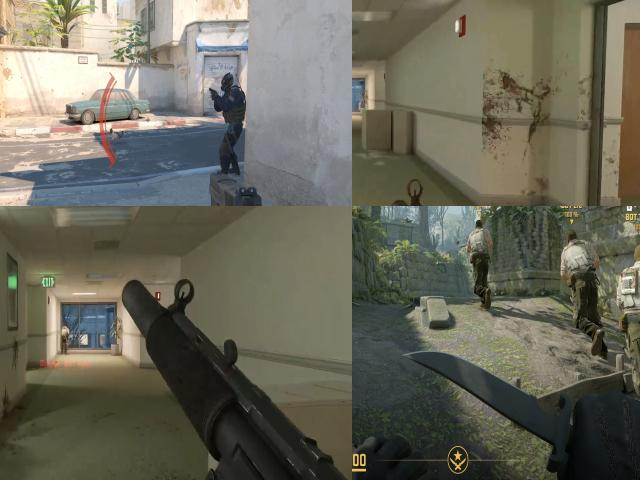Bomb: (619, 263, 640, 303)
CT: (220, 72, 242, 174)
CT-Head: (222, 76, 233, 88)
T: (562, 227, 601, 349), (619, 237, 640, 409), (463, 217, 498, 306), (60, 322, 70, 348)
T-Head: (561, 229, 581, 248), (631, 238, 640, 269), (475, 218, 486, 234)
